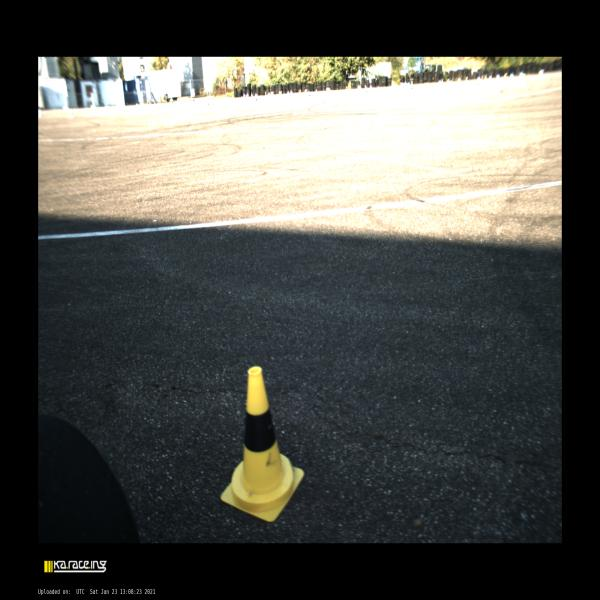yellow_cone: (221, 367, 304, 521)
